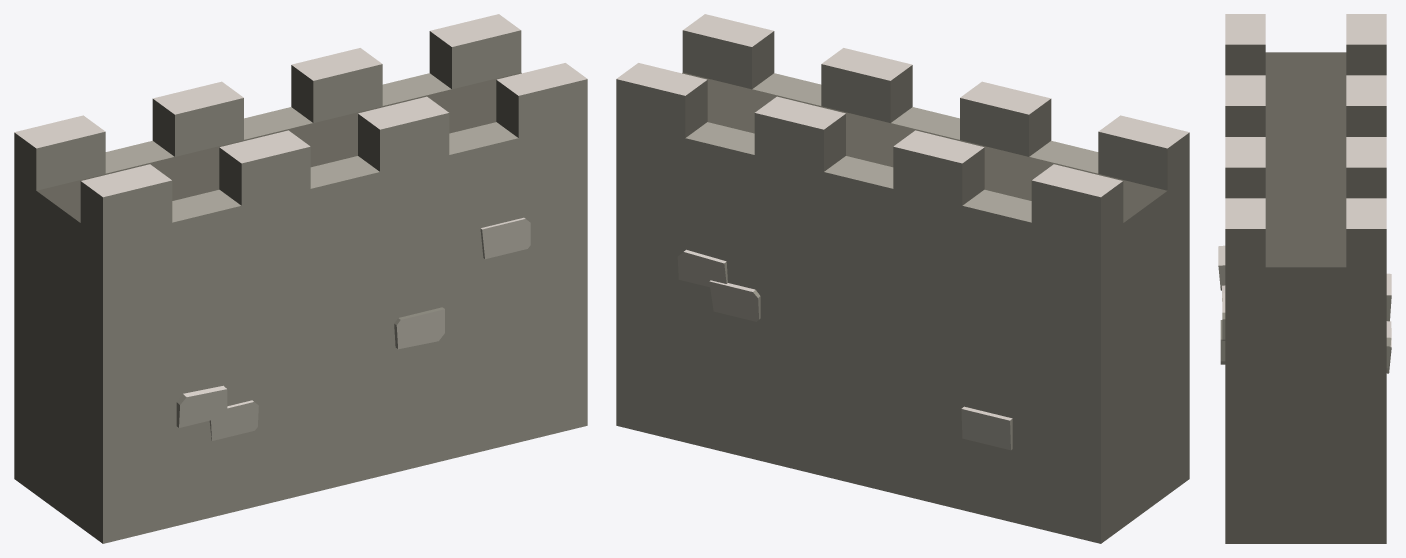
File: TB_Str_Wall.FBX
The picture shows the model from 3 angles, left to right: view 1: azimuth 30°, elevation 25°; view 2: azimuth 150°, elevation 25°; view 3: azimuth 270°, elevation 25°; orthographic projection. The views are drawn at different scales.
Visible parts, largest first — view 1: TB_Str_Wall; view 2: TB_Str_Wall; view 3: TB_Str_Wall.
Boxes of the visible parts, <box> form: TB_Str_Wall: <box>14,14,587,543</box>; TB_Str_Wall: <box>616,14,1189,543</box>; TB_Str_Wall: <box>1218,14,1391,543</box>.
Bounding box in the file's own units: 6.39 × 4.37 × 2.18.
